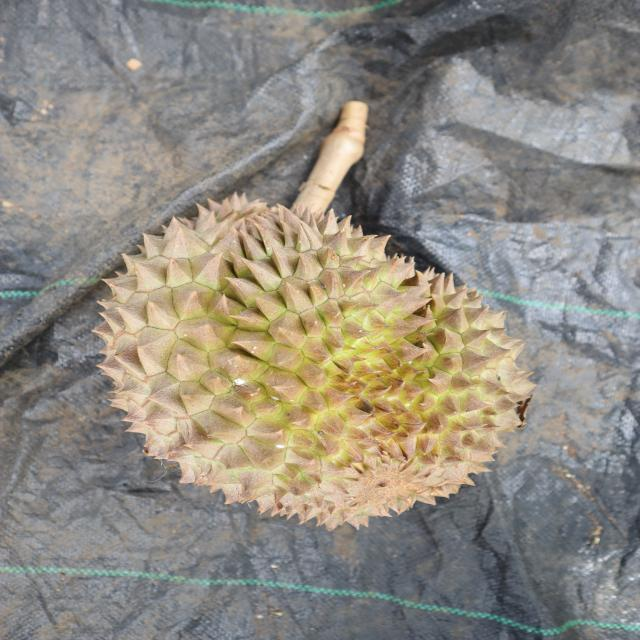mature: (91, 192, 537, 536)
